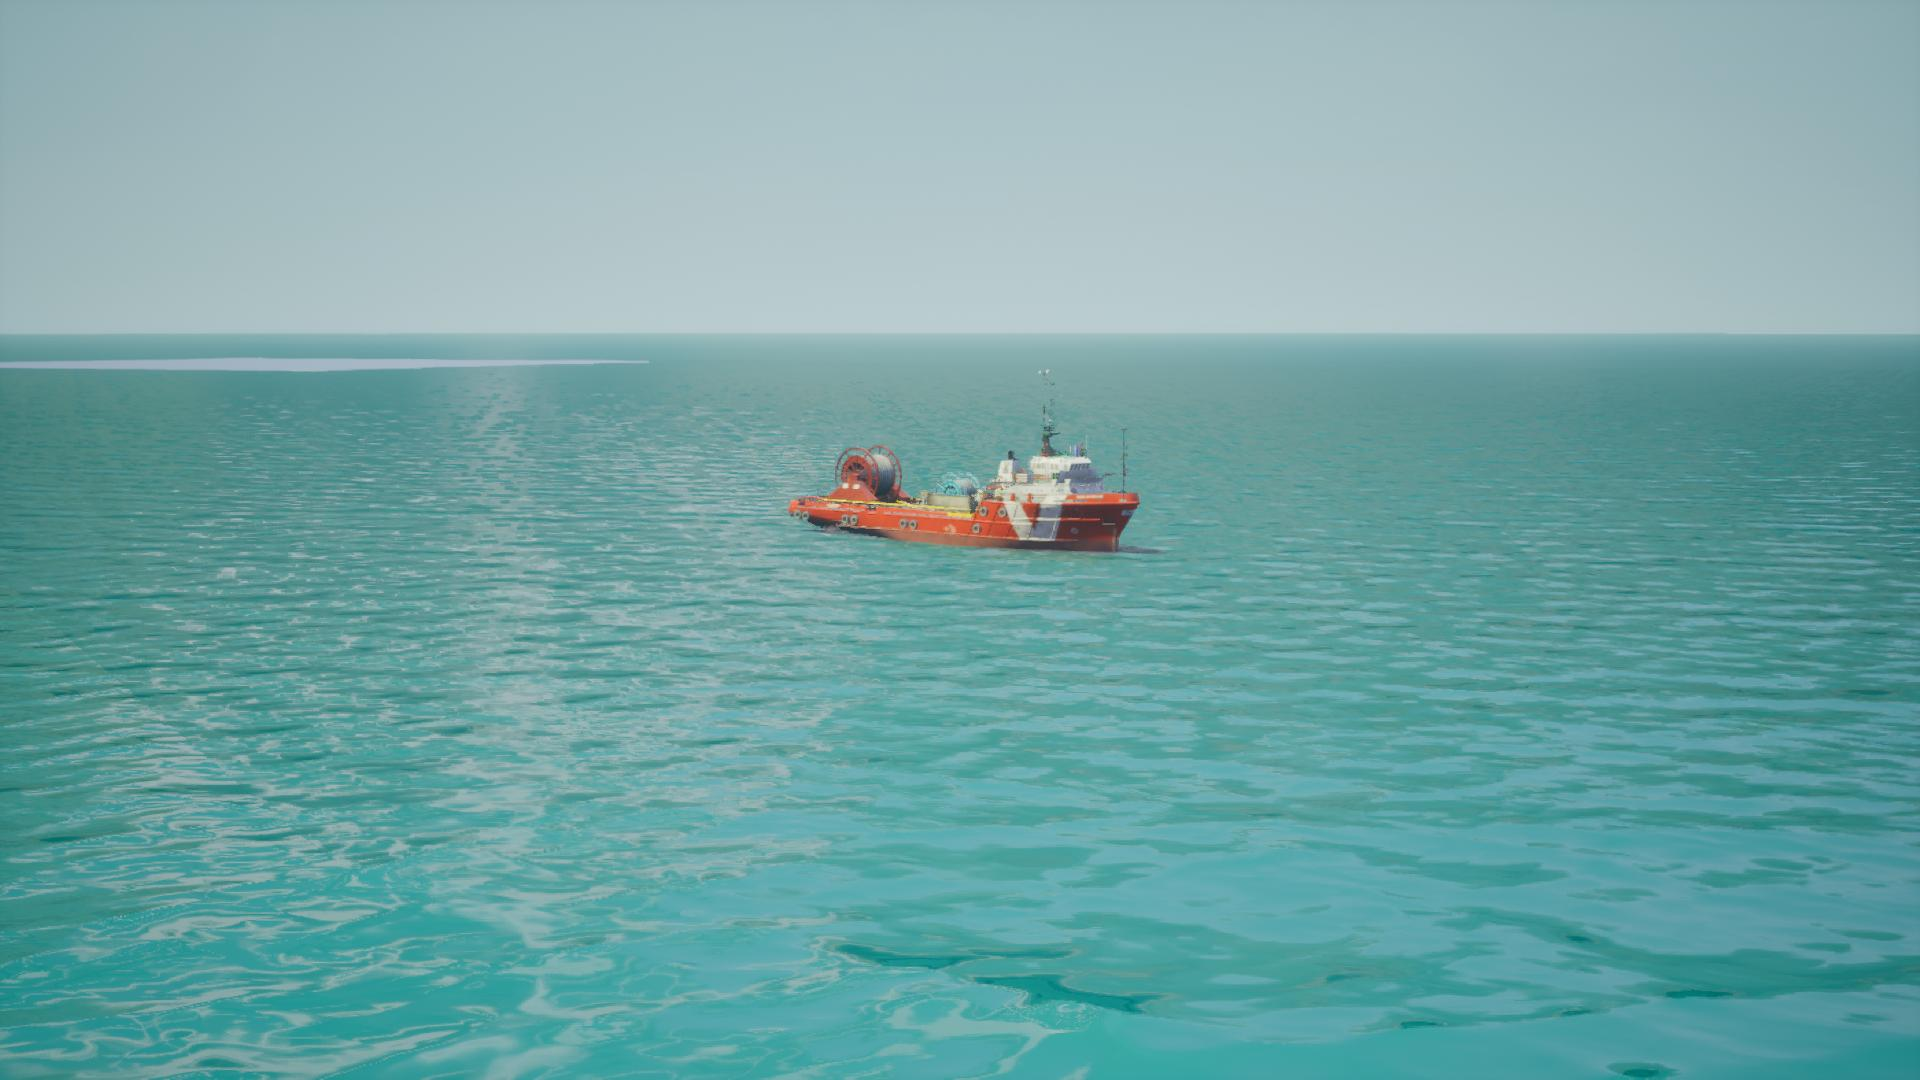Tug Boat: (789, 372, 1145, 556)
